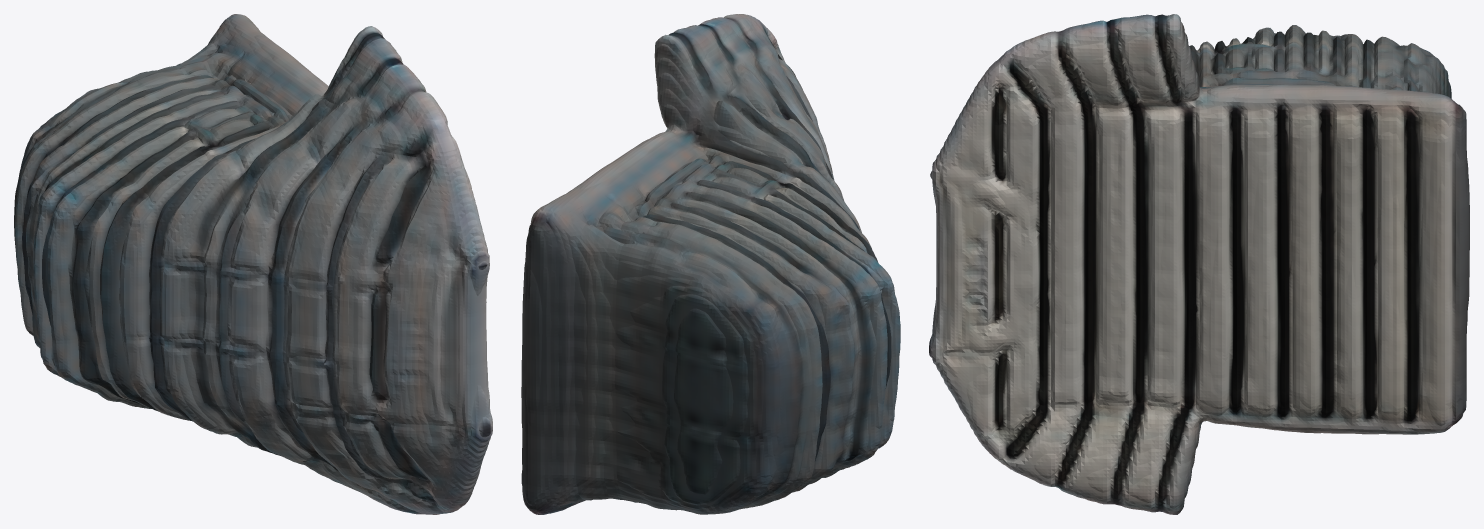
3 renders of one model, left to right at view 1: azimuth 30°, elevation 25°; view 2: azimuth 150°, elevation 25°; view 3: azimuth 270°, elevation 25°, orthographic. The views are drawn at different scales.
Size of the model in its own units: 0.6812 by 0.9958 by 0.9936.
